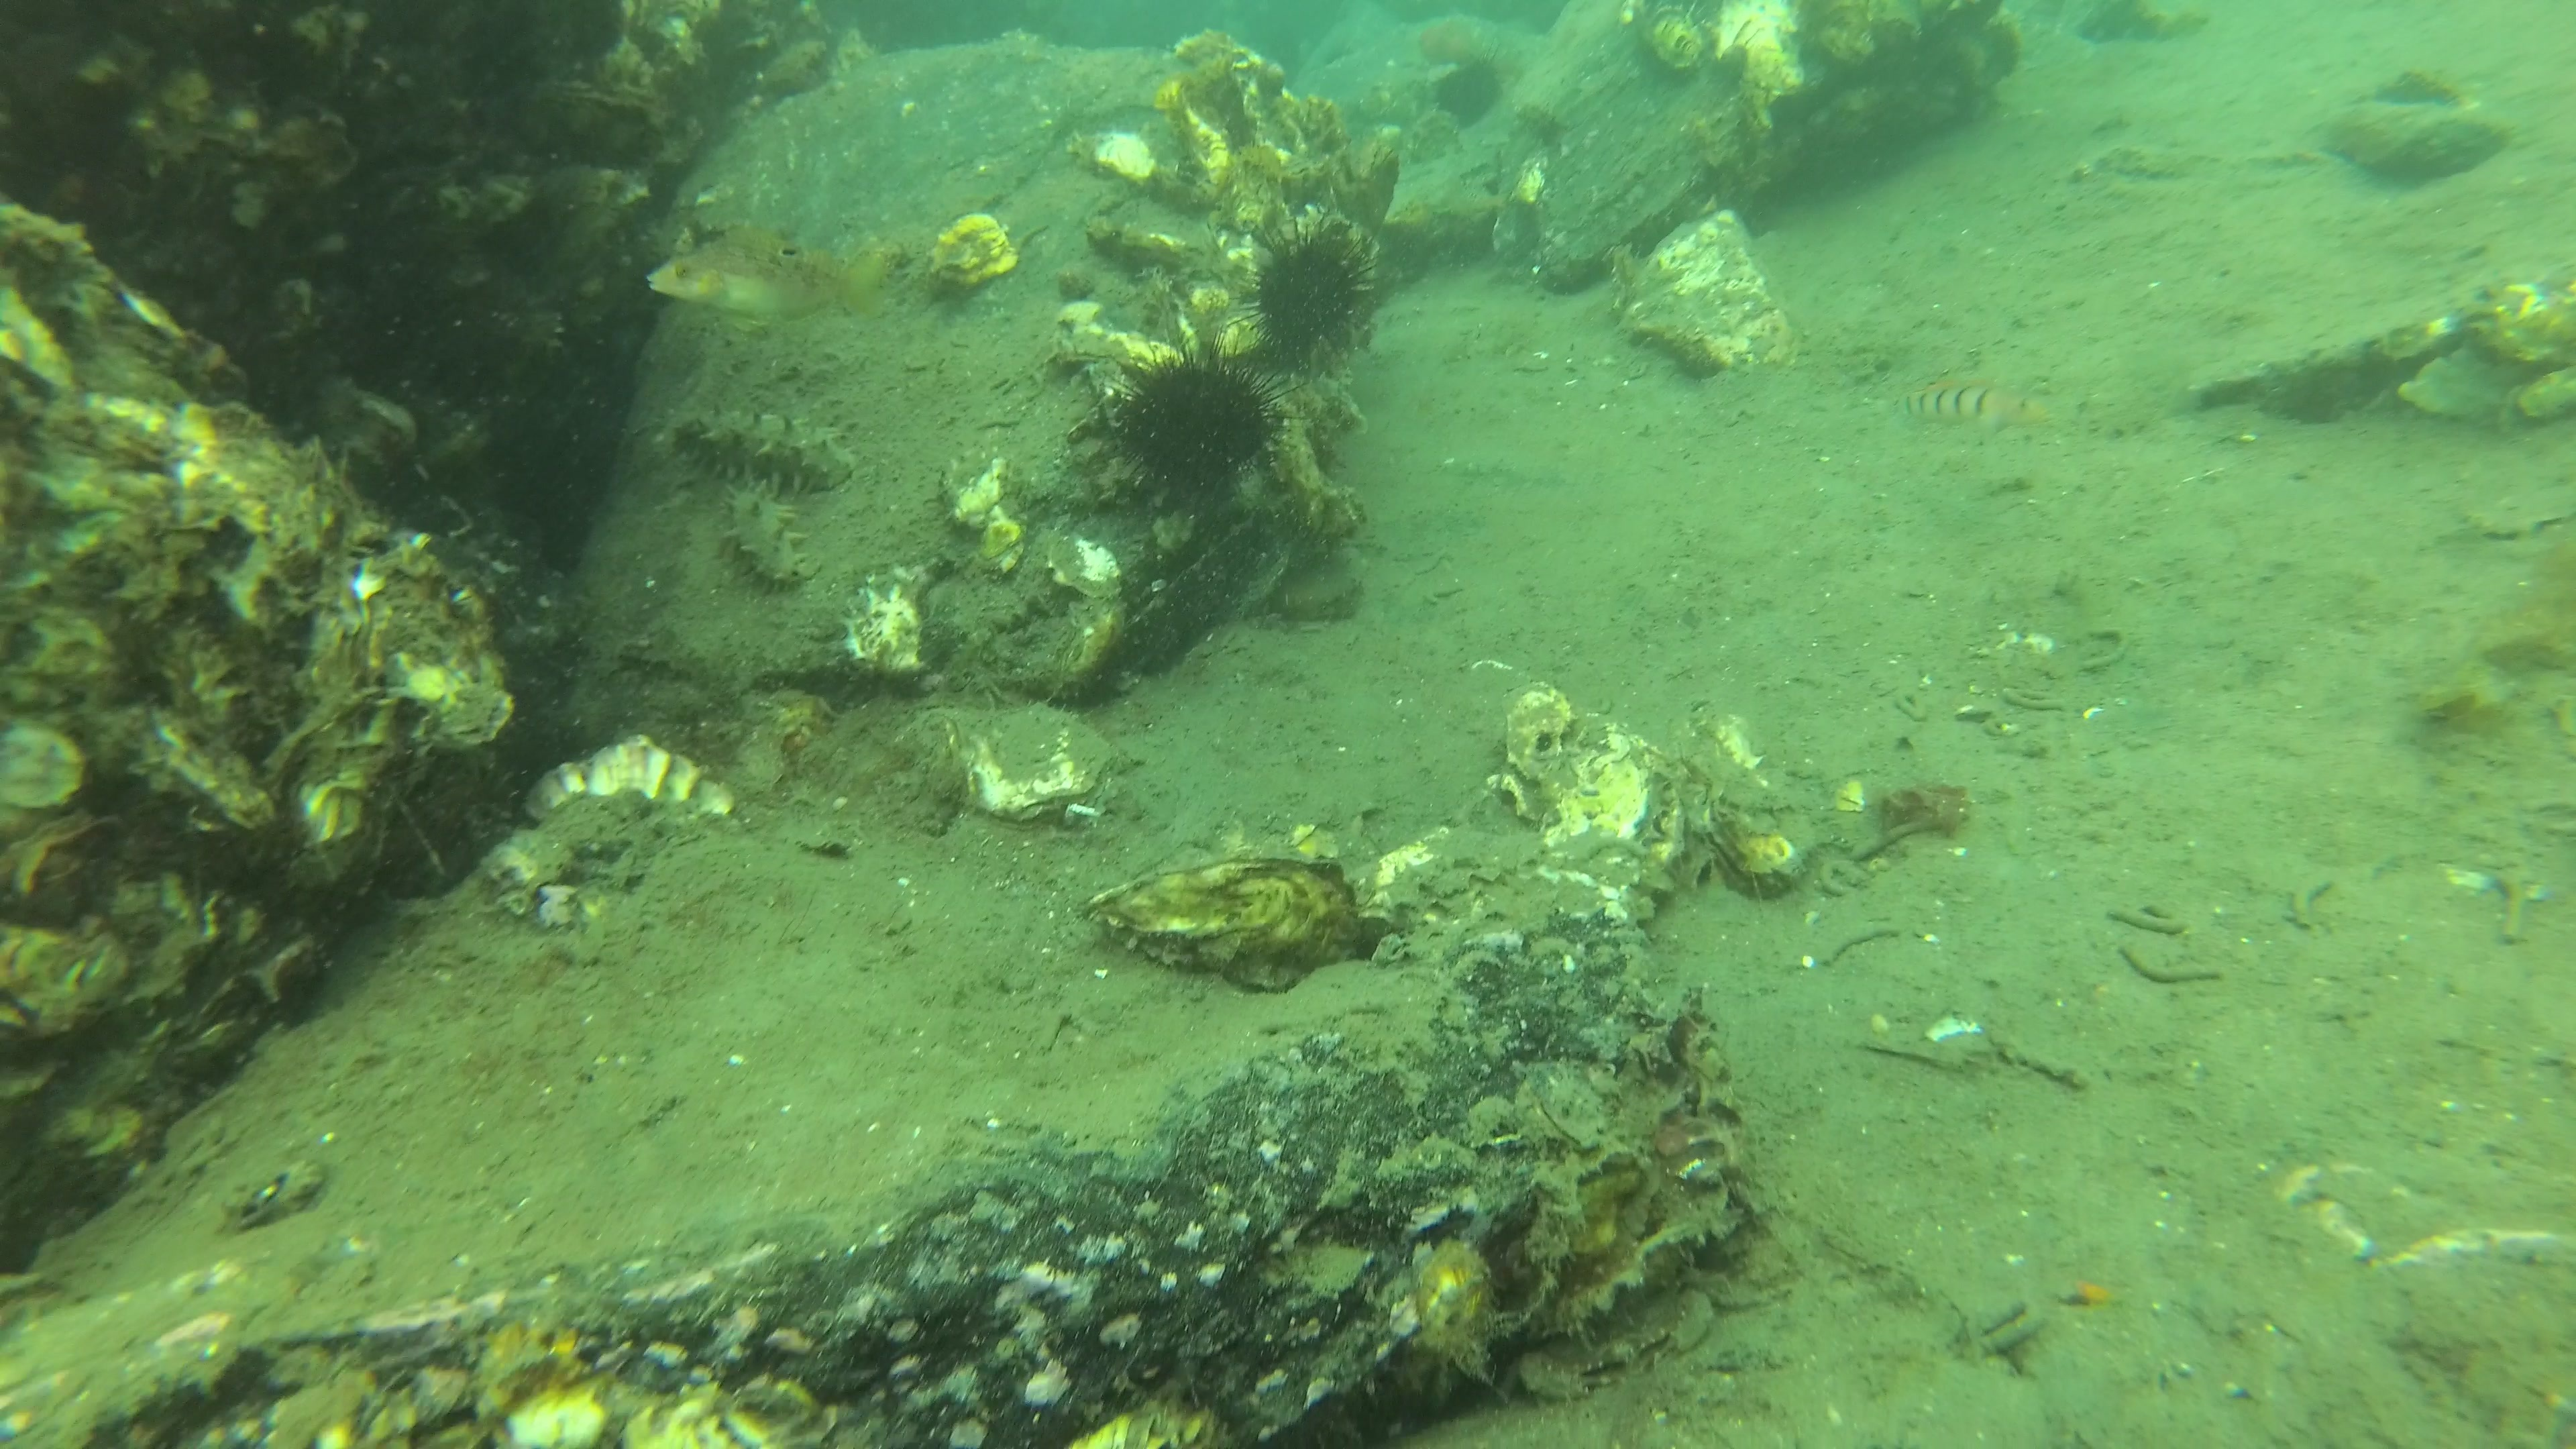echinus: (1088, 340, 1284, 511), (1230, 219, 1378, 352), (1421, 46, 1527, 133)
holothurian: (663, 403, 867, 499), (725, 481, 821, 591)
